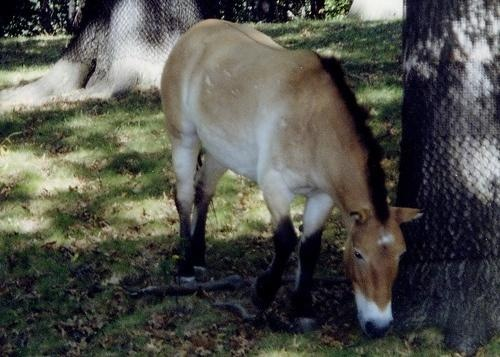horse: (160, 20, 425, 337)
